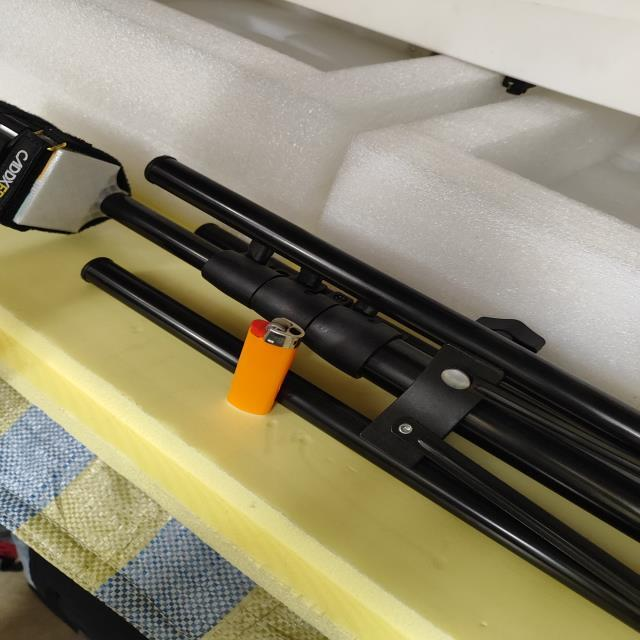lighter: (227, 318, 304, 414)
